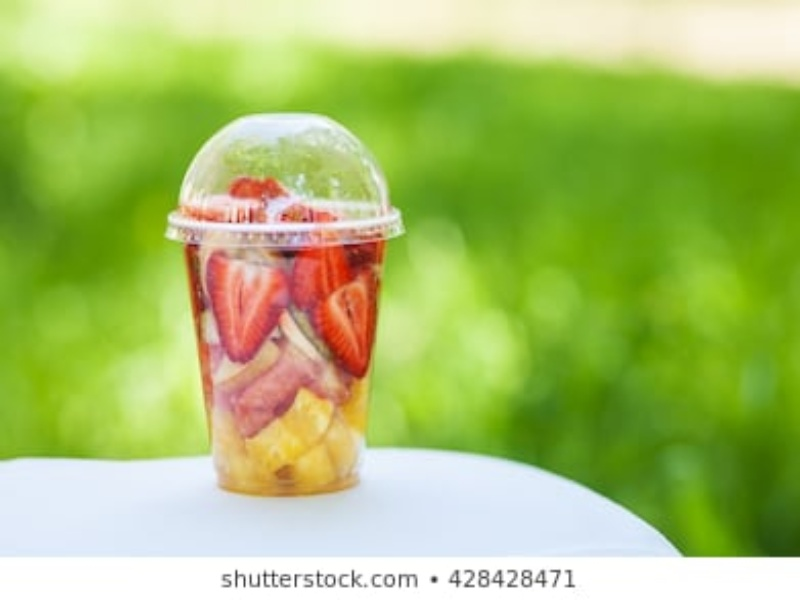plastic-cup: (147, 99, 416, 503)
